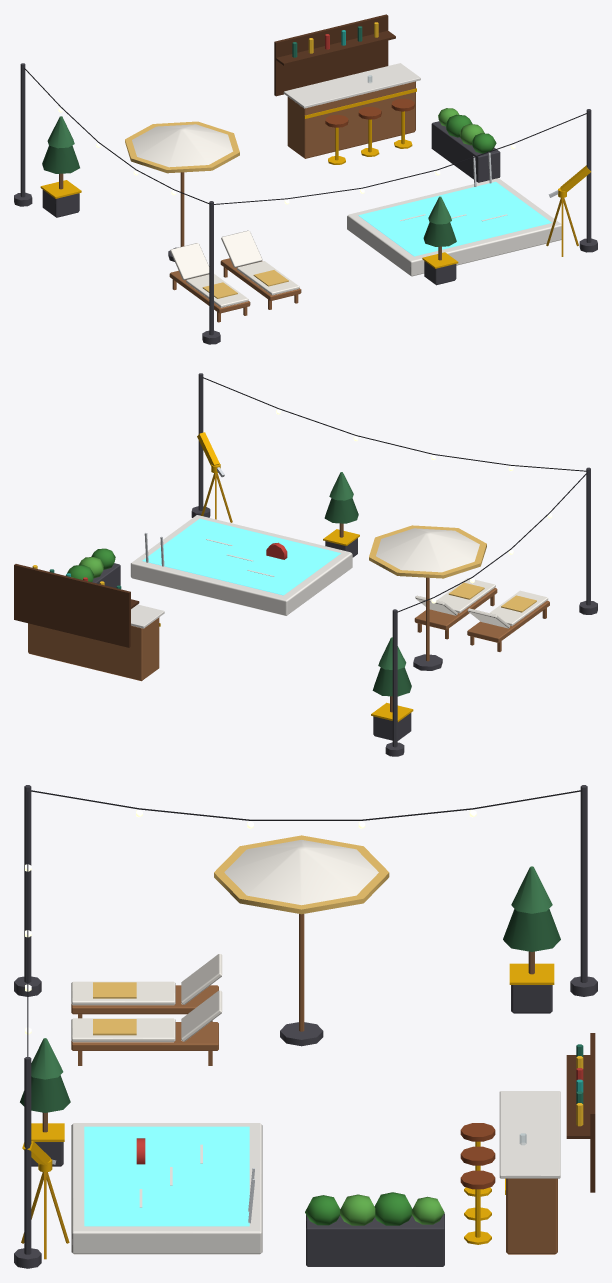
File: einrichtung_dachterrasse.glb
3 renders of one model, top to bottom at view 1: azimuth 30°, elevation 25°; view 2: azimuth 150°, elevation 25°; view 3: azimuth 270°, elevation 25°, orthographic. The views are drawn at different scales.
Parts seen in each view (by area): view 1: einrichtung_dachterrasse; view 2: einrichtung_dachterrasse; view 3: einrichtung_dachterrasse.
Part boxes in pixels (x1=…): einrichtung_dachterrasse: x1=14, y1=14, x2=597, y2=344; einrichtung_dachterrasse: x1=14, y1=373, x2=597, y2=756; einrichtung_dachterrasse: x1=14, y1=785, x2=597, y2=1268.
Bounding box in the file's own units: 7.72 × 2.6 × 6.72.
